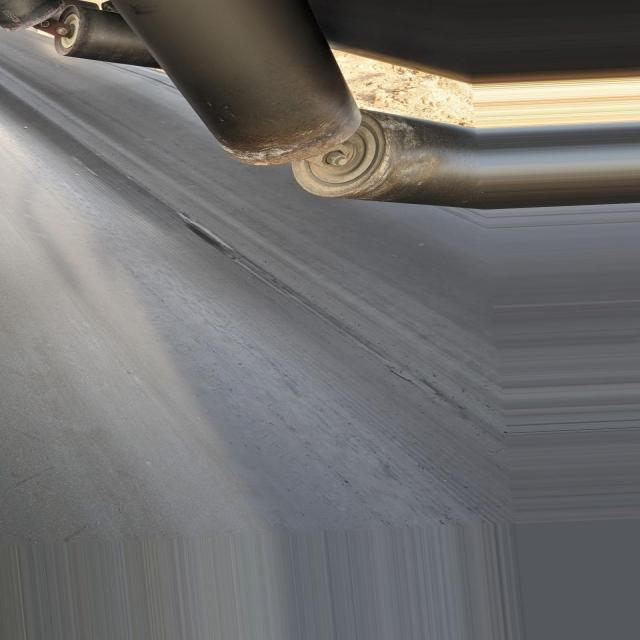Roller: (116, 0, 360, 165), (287, 112, 471, 207), (49, 3, 158, 68), (182, 213, 235, 261)
